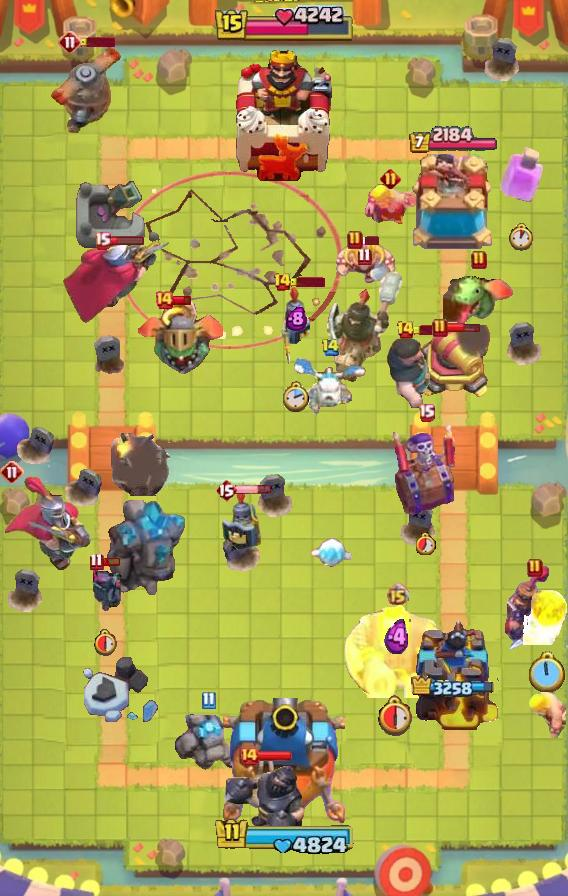archer: (526, 682, 568, 738), (364, 180, 416, 224)
baby-dragon: (111, 433, 170, 495)
bat: (311, 537, 353, 573)
battle-ram: (90, 565, 123, 611)
cannoneer-tower: (104, 500, 188, 598)
clock: (210, 816, 358, 858), (213, 5, 355, 45)
dark-prince: (38, 47, 132, 133)
electro-spirit: (384, 620, 411, 657), (286, 306, 307, 331)
electro-wizard: (443, 261, 515, 327)
elixir: (527, 651, 565, 695), (378, 694, 416, 736), (283, 381, 310, 413), (509, 223, 535, 251), (94, 628, 119, 656), (416, 532, 436, 556)
elixir-golem-big: (496, 564, 568, 654)
emote: (235, 484, 272, 496), (257, 750, 293, 762), (446, 322, 481, 334), (107, 234, 145, 245), (79, 37, 115, 47), (289, 277, 325, 287), (412, 325, 448, 335), (361, 234, 381, 245), (101, 556, 121, 567), (173, 294, 192, 305)
giant-skeleton: (342, 604, 452, 698)
goblin-giant: (334, 237, 396, 285)
guard: (118, 171, 342, 350)
inferno-dragon: (322, 268, 406, 384)
king-tower: (223, 698, 345, 826), (232, 45, 336, 181)
knight-evolution: (499, 145, 543, 202)
mini-pekka: (290, 356, 370, 418)
night-witch: (133, 296, 223, 376)
princess: (277, 285, 315, 373), (222, 486, 264, 554)
queen-tower: (405, 617, 501, 731), (405, 154, 501, 256)
royal-guardian: (223, 757, 309, 843)
royal-hog: (384, 335, 446, 409)
royal-recruit: (415, 325, 493, 401)
selected: (409, 126, 500, 154), (412, 675, 497, 700)
skeleton-king-bar: (393, 420, 459, 514)
text: (58, 30, 82, 54), (0, 460, 24, 484), (386, 582, 409, 605), (215, 478, 237, 502), (380, 168, 401, 189), (272, 272, 292, 292), (154, 290, 174, 310), (239, 746, 259, 766), (397, 320, 416, 340), (320, 339, 340, 357), (417, 402, 435, 421), (347, 230, 363, 250), (471, 250, 487, 270), (432, 318, 448, 338), (527, 558, 543, 578), (93, 231, 110, 249), (357, 246, 371, 265), (89, 553, 103, 571), (201, 691, 215, 709)
valkyrie: (524, 589, 568, 645)
valkyrie-evolution: (175, 714, 241, 776)
wall-breaker-evolution: (60, 238, 172, 326), (0, 473, 92, 573)
